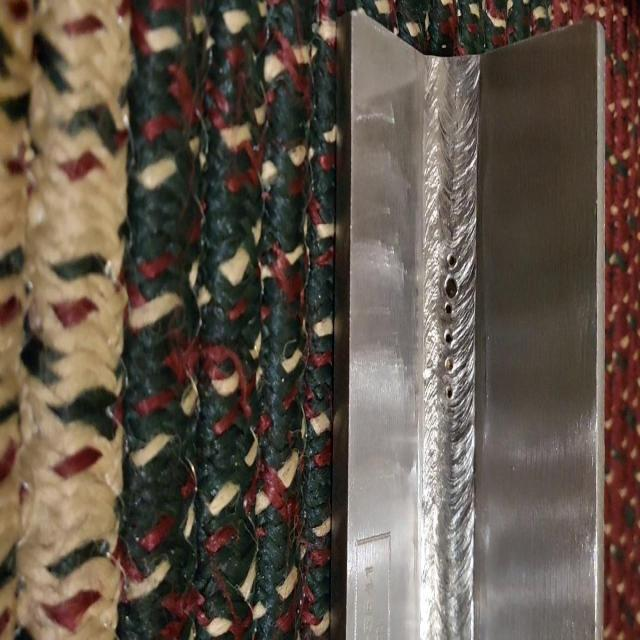Welding Line: (426, 61, 477, 640)
Workpiece: (338, 18, 600, 640)
porosity: (443, 250, 457, 399)
